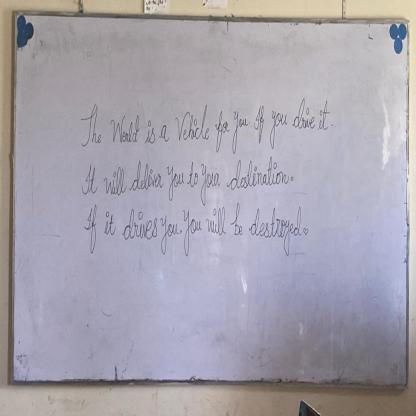Handwritten text: (78, 83, 332, 154), (83, 199, 305, 269), (73, 152, 291, 206)
Whiteboard: (11, 11, 411, 387)
